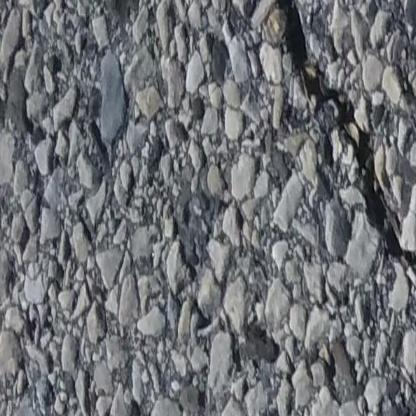Cracks: (274, 0, 416, 299)
